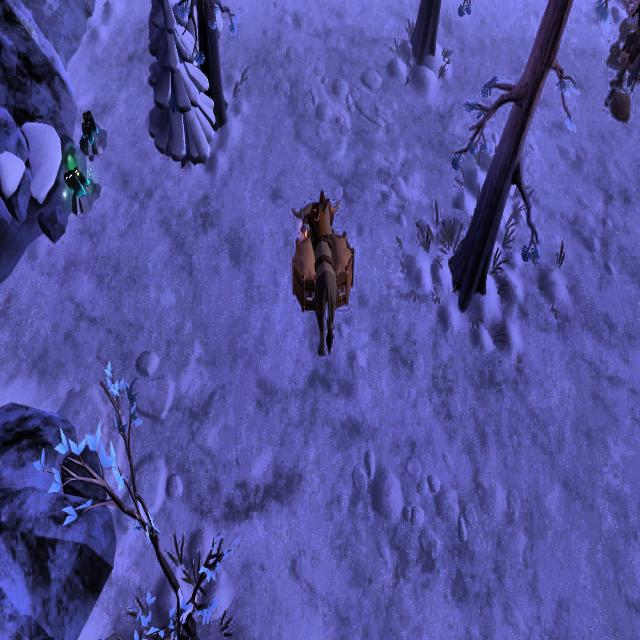ore_t4: (63, 164, 88, 204), (79, 106, 97, 148)
